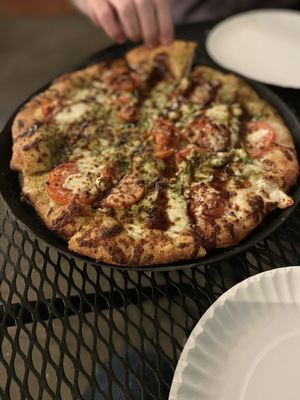sandwich: (6, 40, 299, 266)
